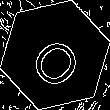O_NE: (23, 22, 87, 88)
